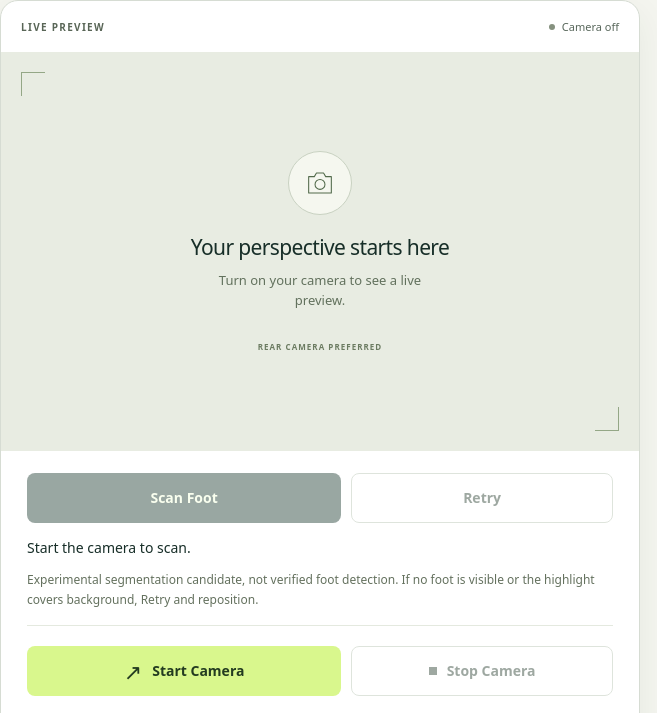
Test: CameraPreview › rejects an insecure context before requesting permission
Click the button "↗ Start Camera".
click(184, 671)  # box [27,646,341,696]
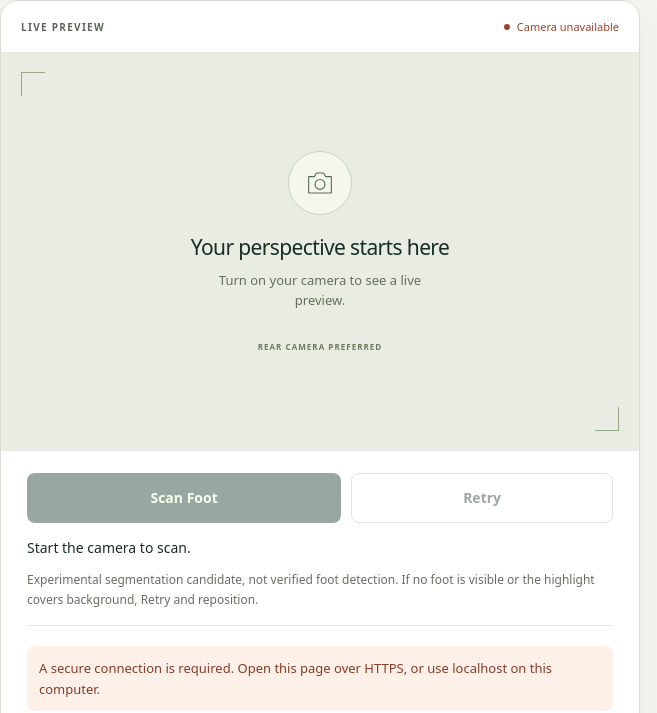
Expected: the 3rd message shows "HTTPS", [39,659,552,698]
